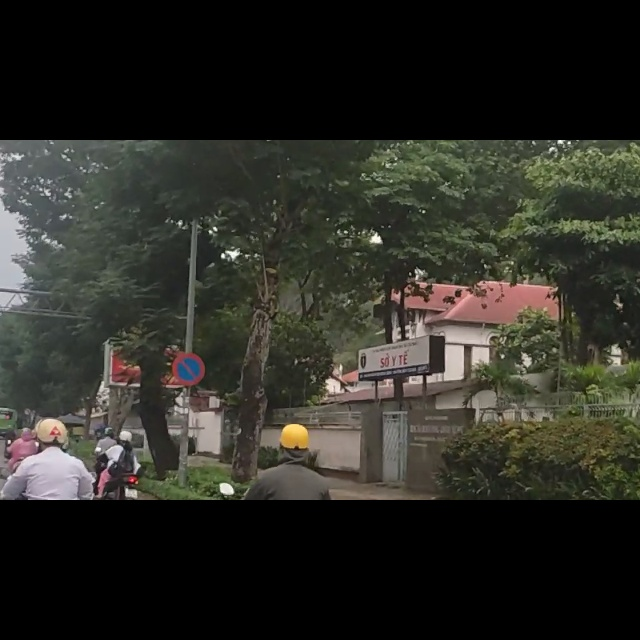bien_cam: (171, 377, 204, 436)
